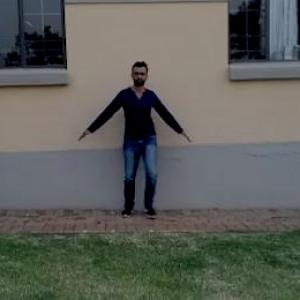land: (82, 63, 191, 231)
